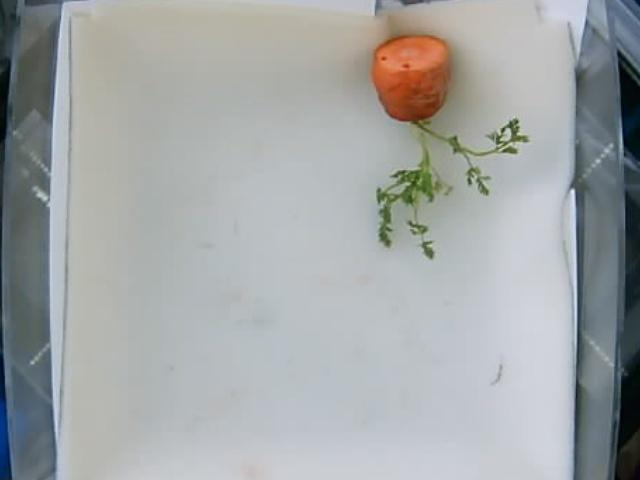Carrot: (374, 33, 530, 255)
